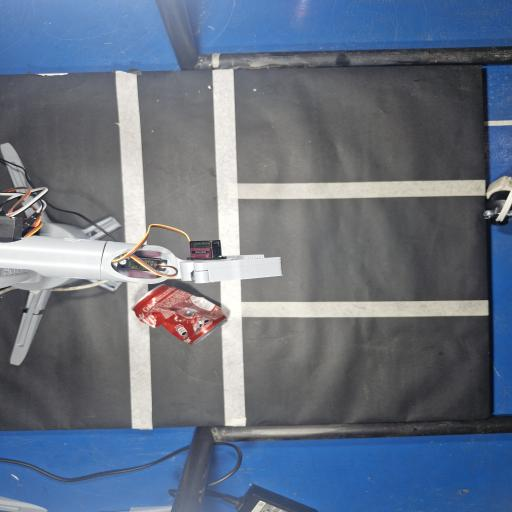lata_defectuoso: (132, 285, 227, 344)
